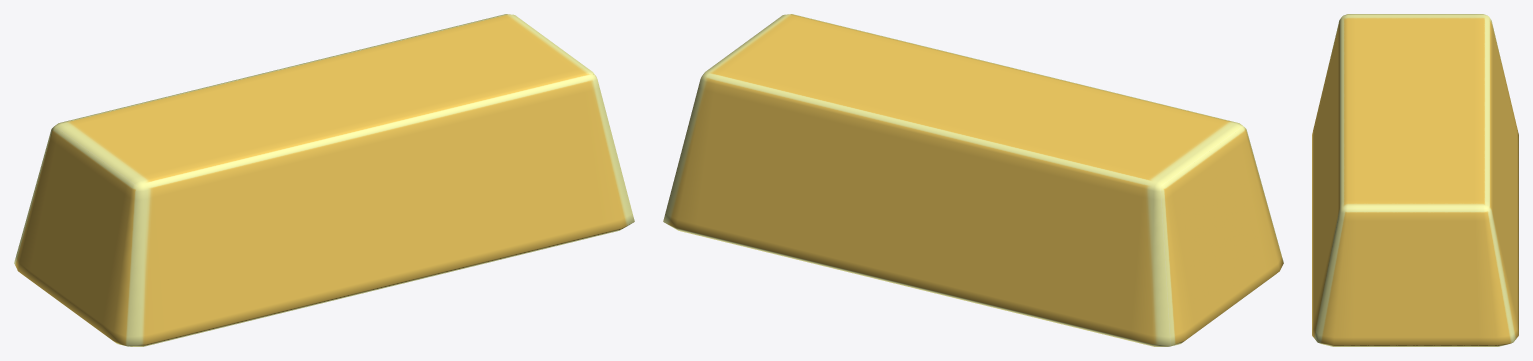
The model's file is Ash_Mine_Ingot.glb.
The picture shows the model from 3 angles, left to right: view 1: azimuth 30°, elevation 25°; view 2: azimuth 150°, elevation 25°; view 3: azimuth 270°, elevation 25°; orthographic projection. The views are drawn at different scales.
Parts seen in each view (by area): view 1: pCube1; view 2: pCube1; view 3: pCube1.
Boxes of the visible parts, x1,y1,x2,y2 form: pCube1: [14, 14, 634, 346]; pCube1: [663, 14, 1283, 346]; pCube1: [1312, 14, 1518, 346].
Bounding box in the file's own units: 1799 × 500 × 716.
1 material, 1 textured.
